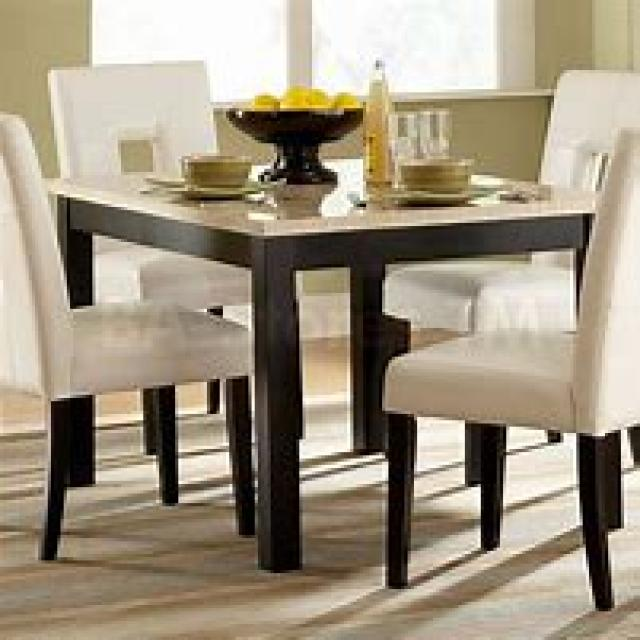chair: (379, 121, 637, 611), (0, 109, 255, 560)
table: (41, 153, 598, 570)
